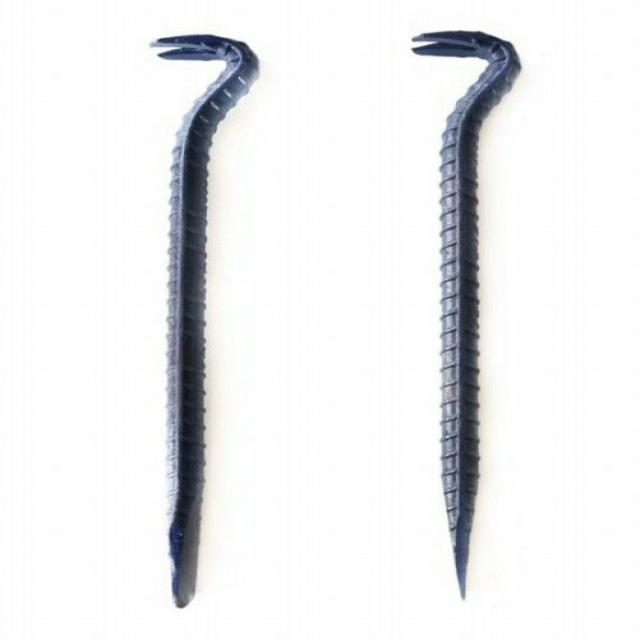Linggis: (387, 19, 536, 609), (129, 23, 251, 621)
